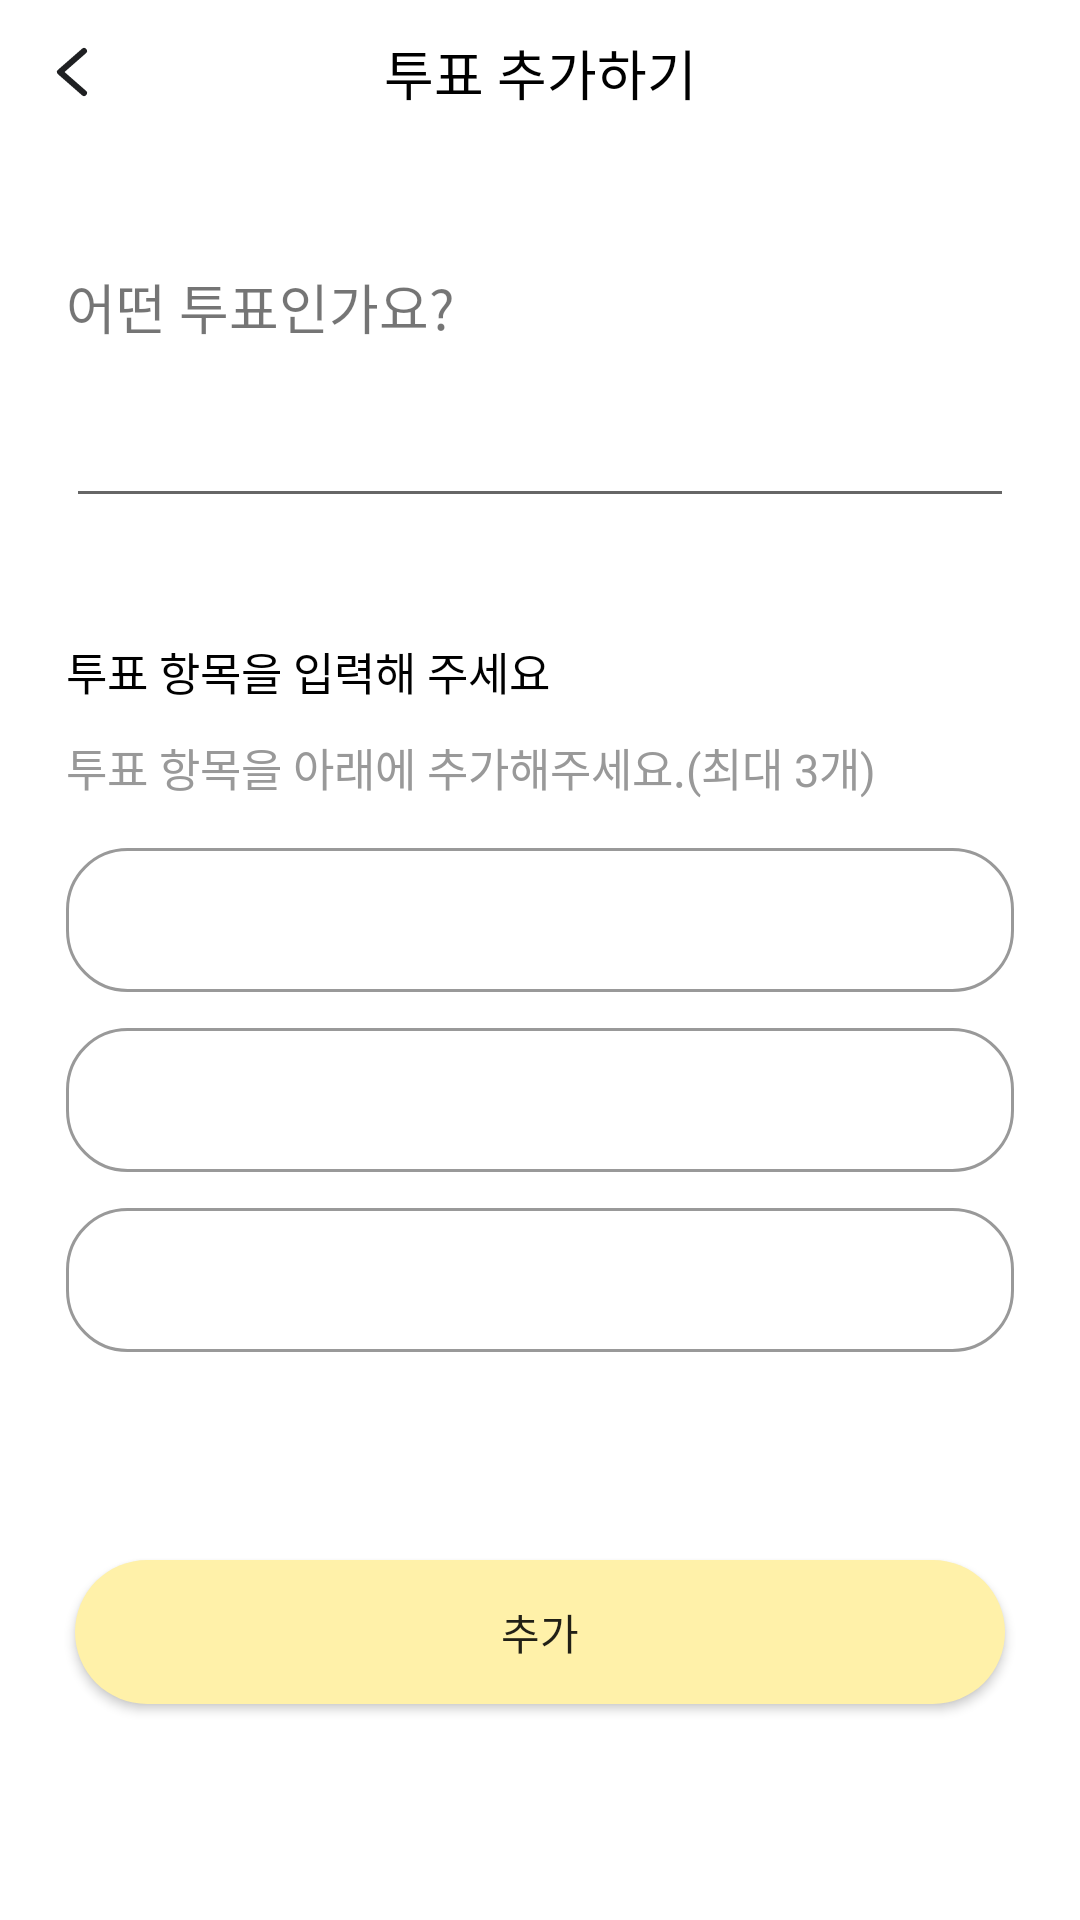

Icon click points for this 1080 x 1920 phone screenshot, format point (x, y):
back: point (71, 72)
